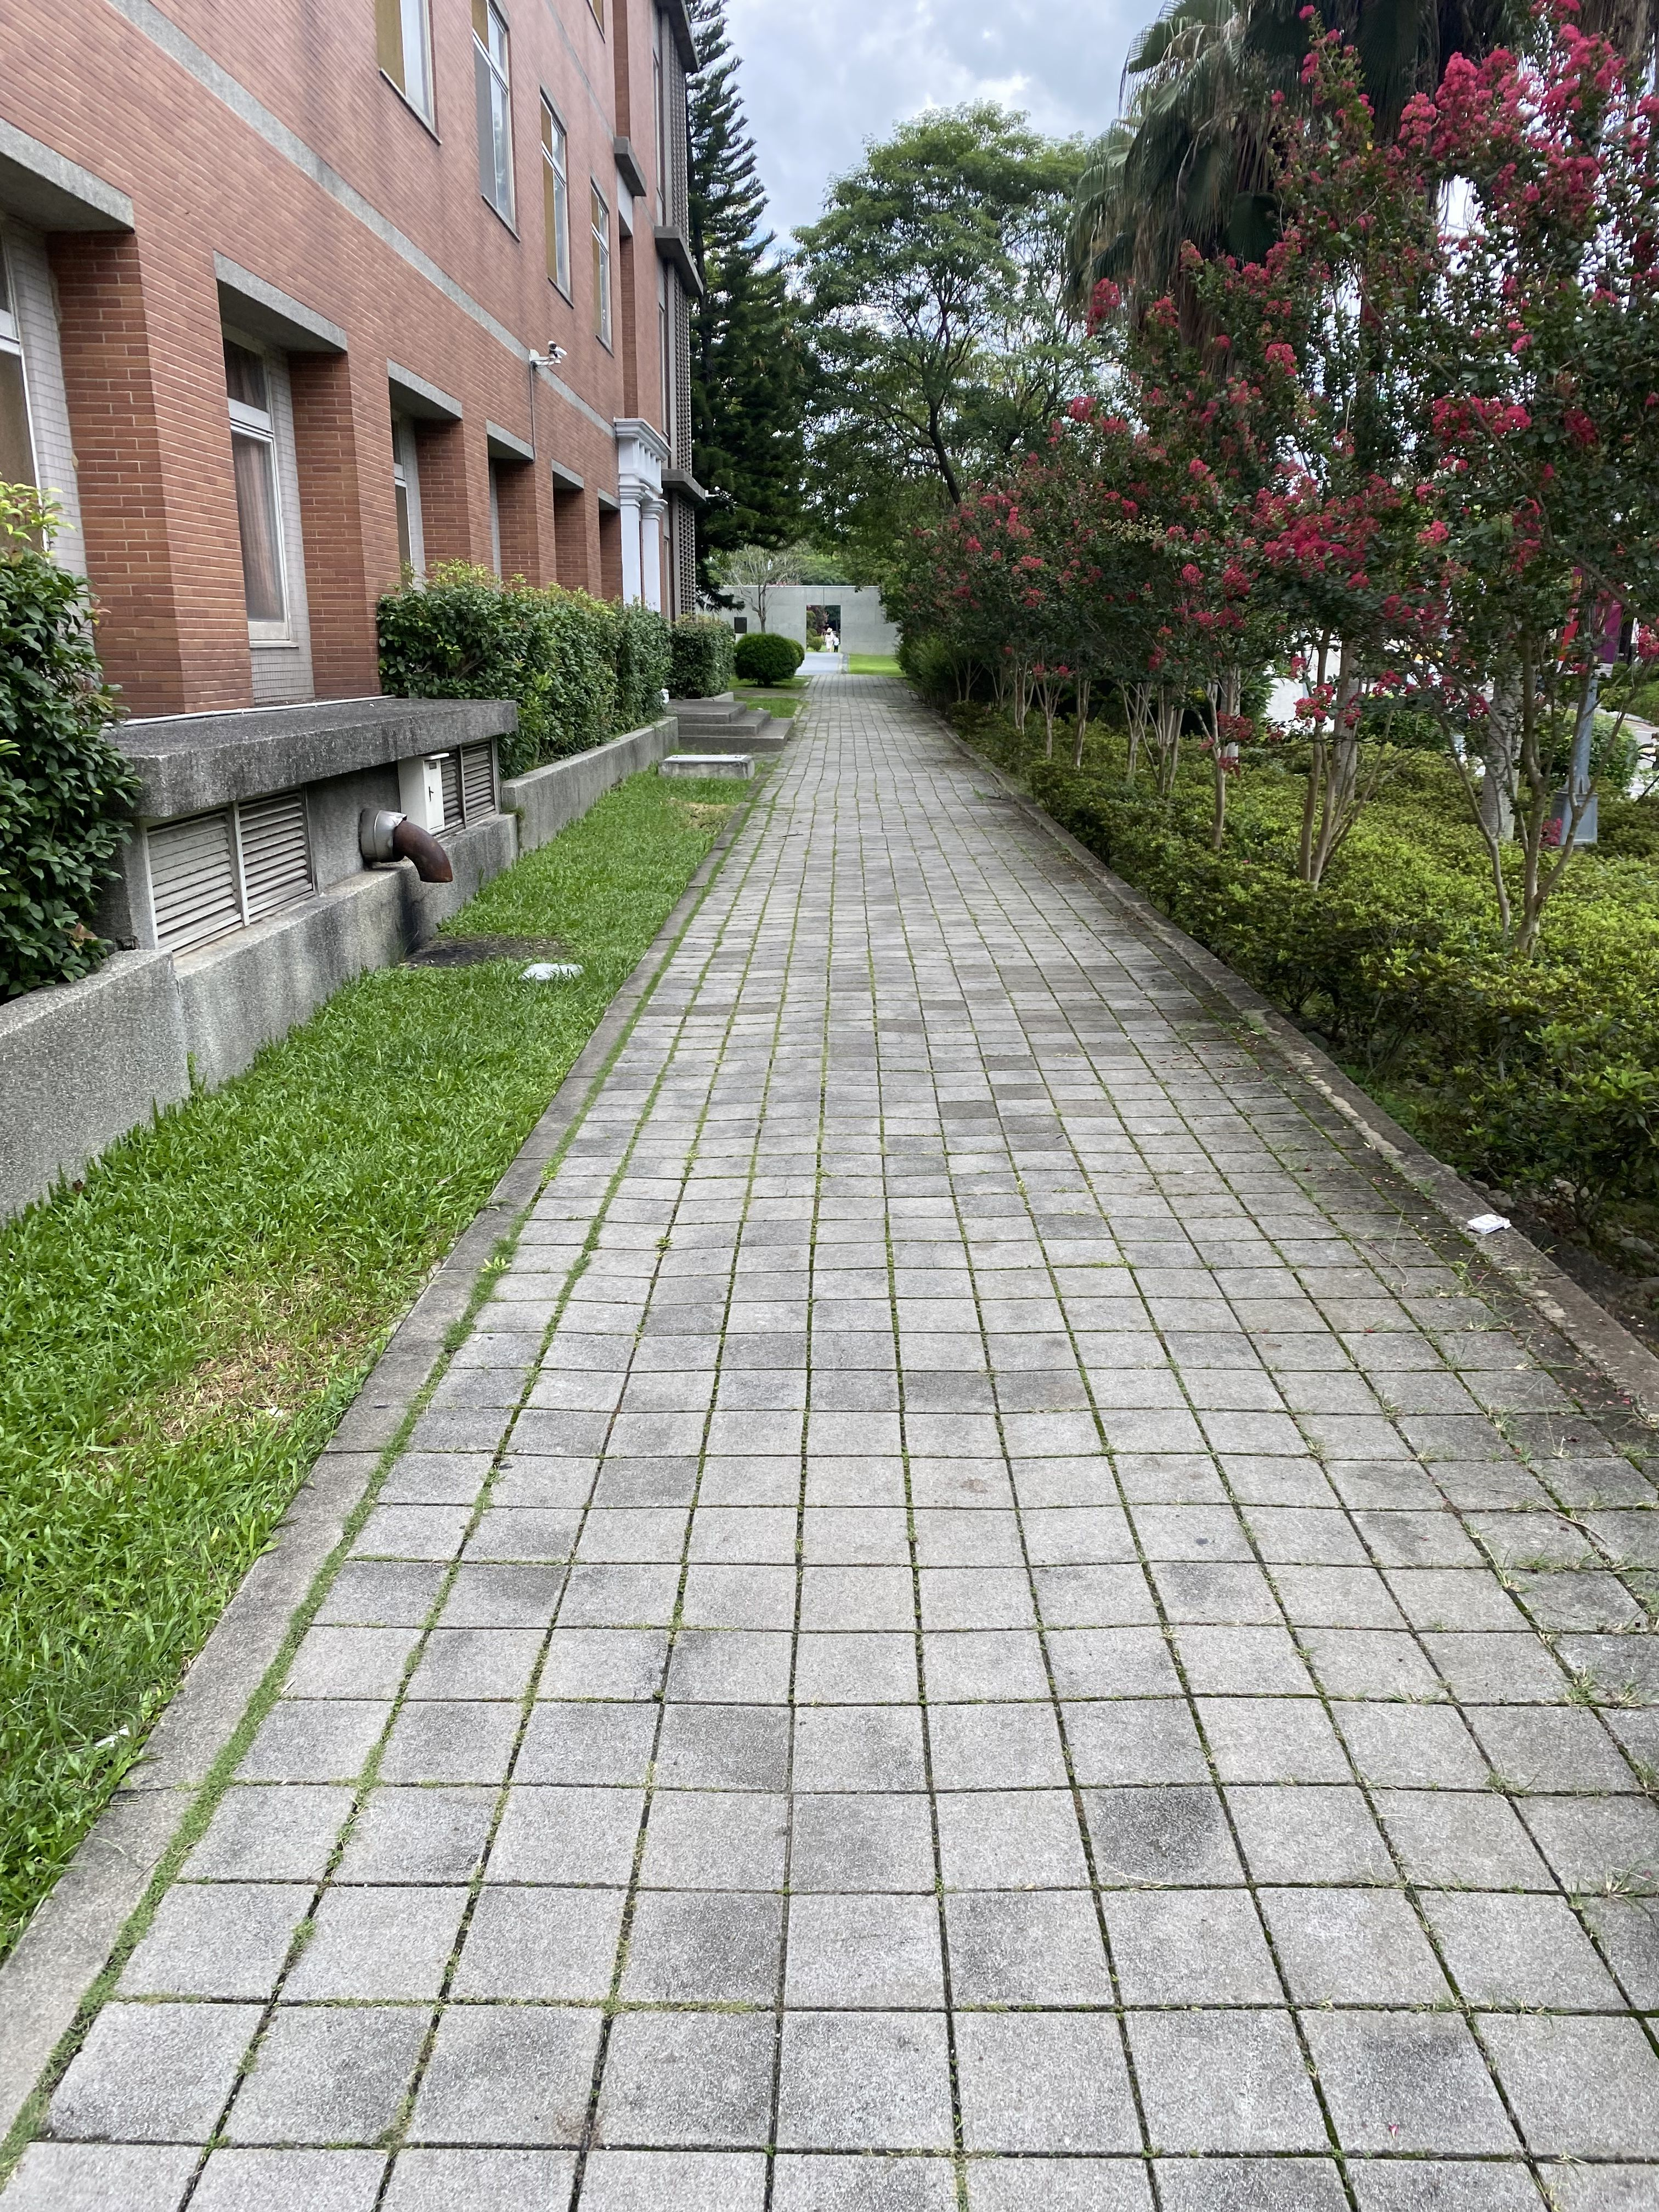0: (7, 993, 880, 2212)
sidewalk: (640, 585, 1659, 2212)
